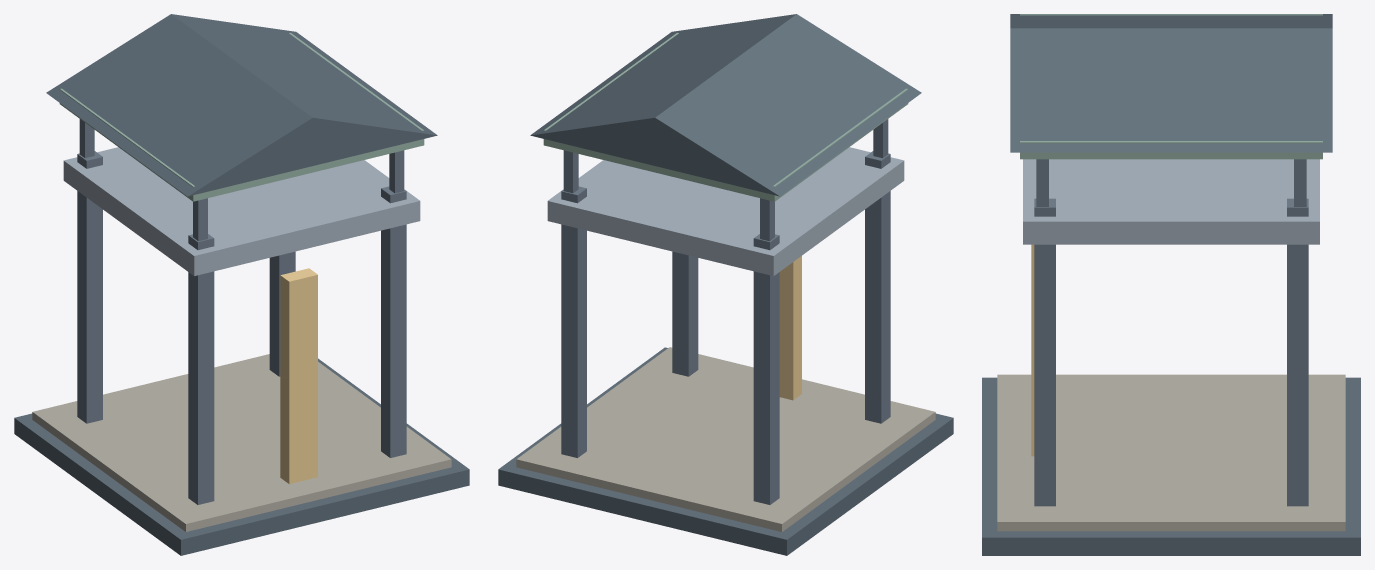
The model's file is watch-tower.glb.
3 views of the same model, side by side, from view 1: azimuth 30°, elevation 25°; view 2: azimuth 150°, elevation 25°; view 3: azimuth 270°, elevation 25° (orthographic). The views are drawn at different scales.
Visible parts, largest first — view 1: Tour de surveillance; view 2: Tour de surveillance; view 3: Tour de surveillance.
Boxes of the visible parts, <box> form: Tour de surveillance: <box>14,14,469,555</box>; Tour de surveillance: <box>498,14,953,555</box>; Tour de surveillance: <box>982,14,1360,555</box>.
Size of the model in its own units: 3 by 3.91 by 3.
